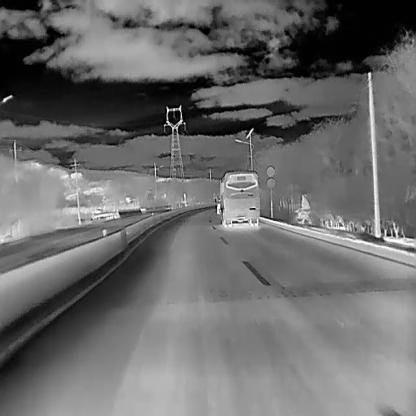car: (213, 167, 263, 229)
